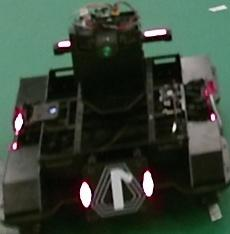armor_1: (79, 171, 154, 209)
front_1: (92, 161, 146, 217)
